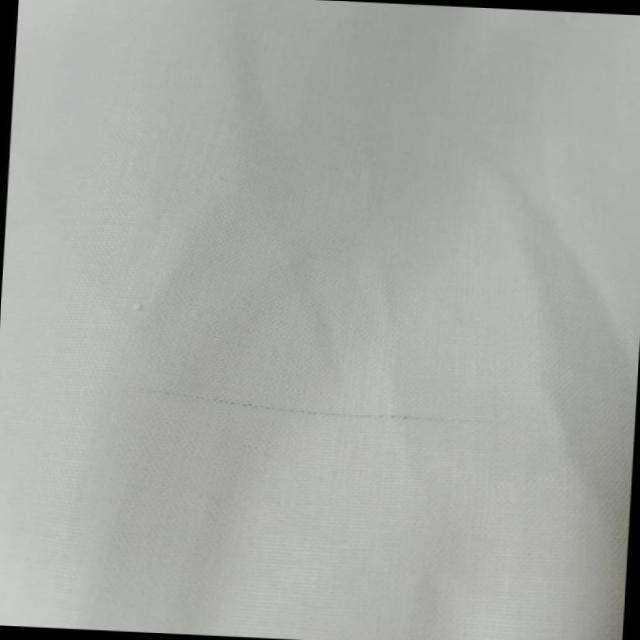contamination: (136, 377, 514, 434)
